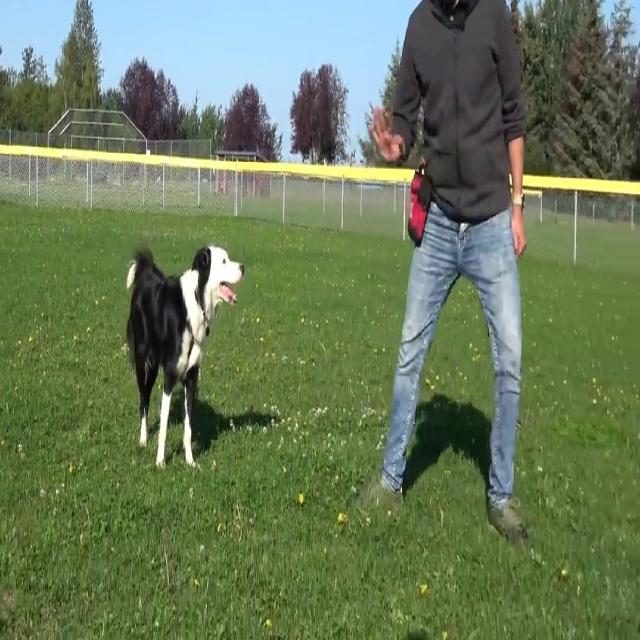Unleashed_Dog: (125, 173, 462, 471)
